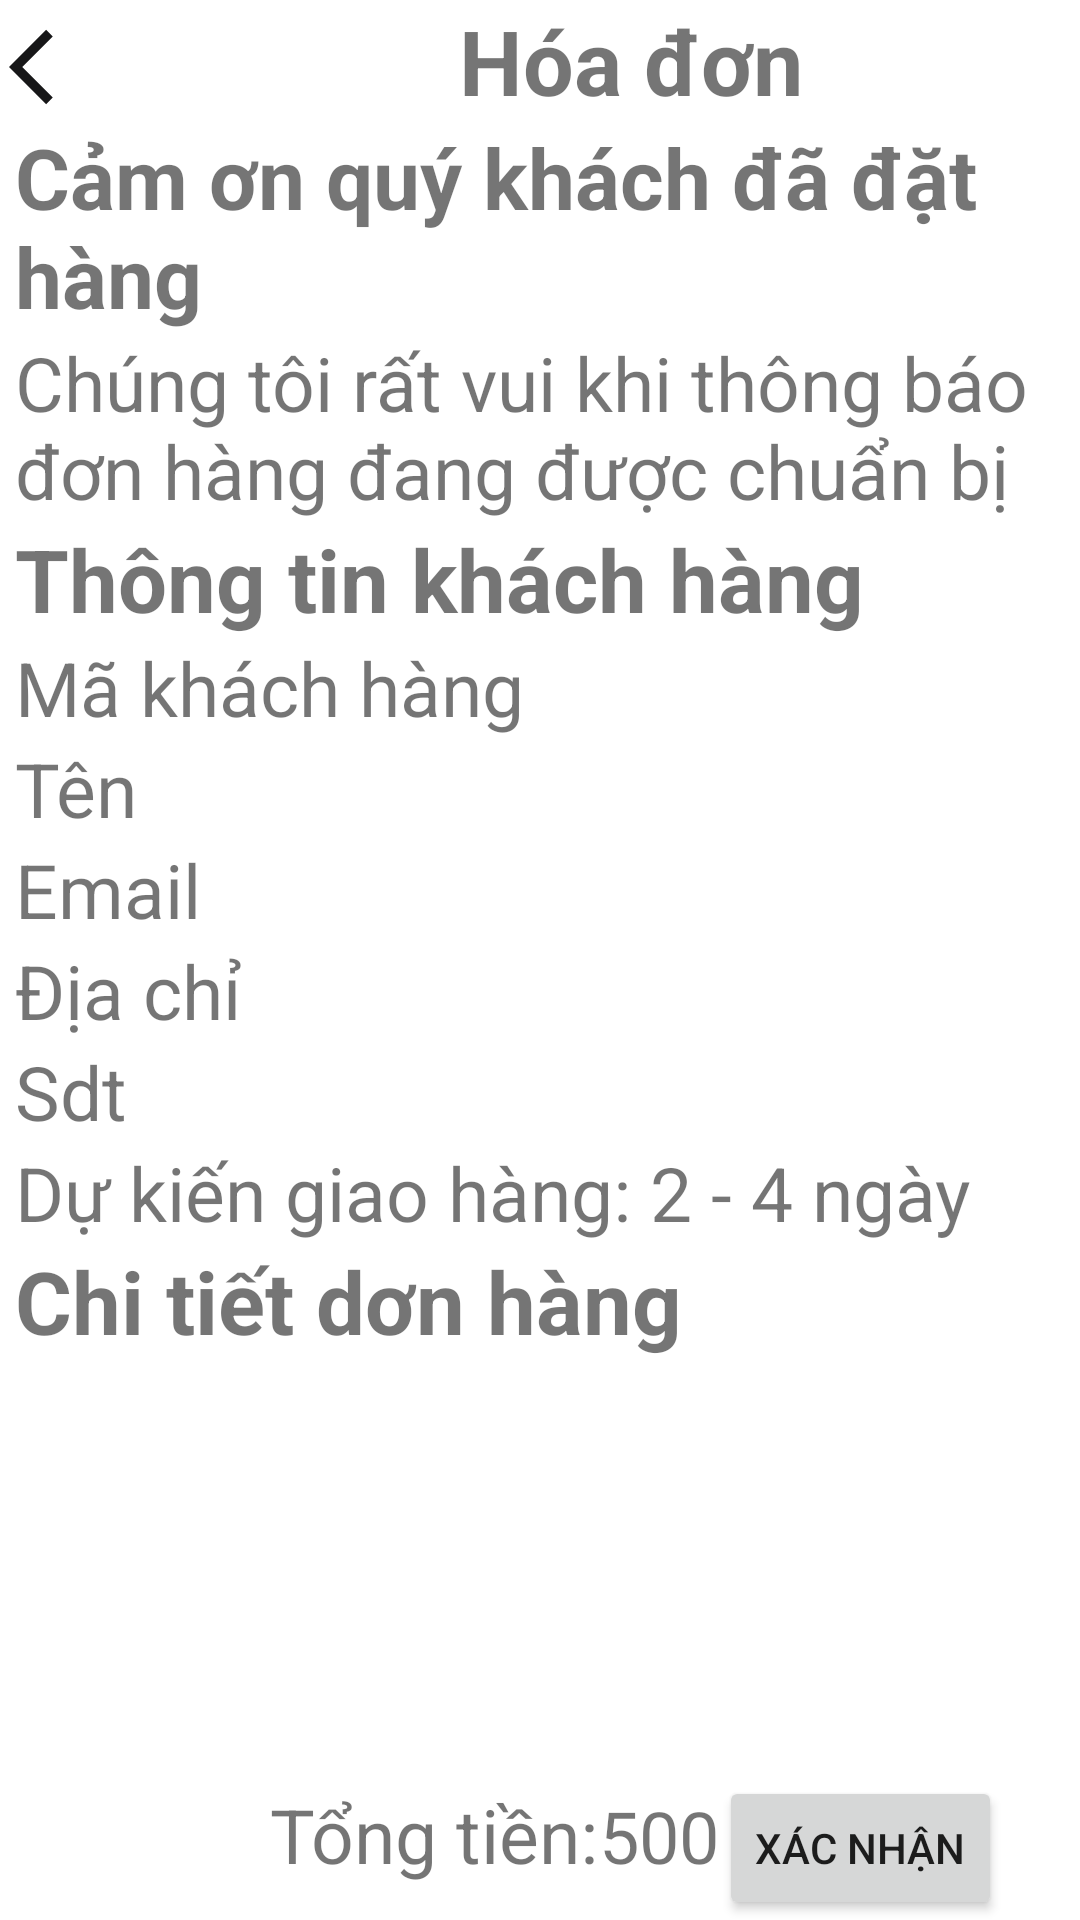

Where icons sit on this 1080w x 1920h app screen, as (x1, y1, x2, y2):
back: (9, 30, 53, 104)
